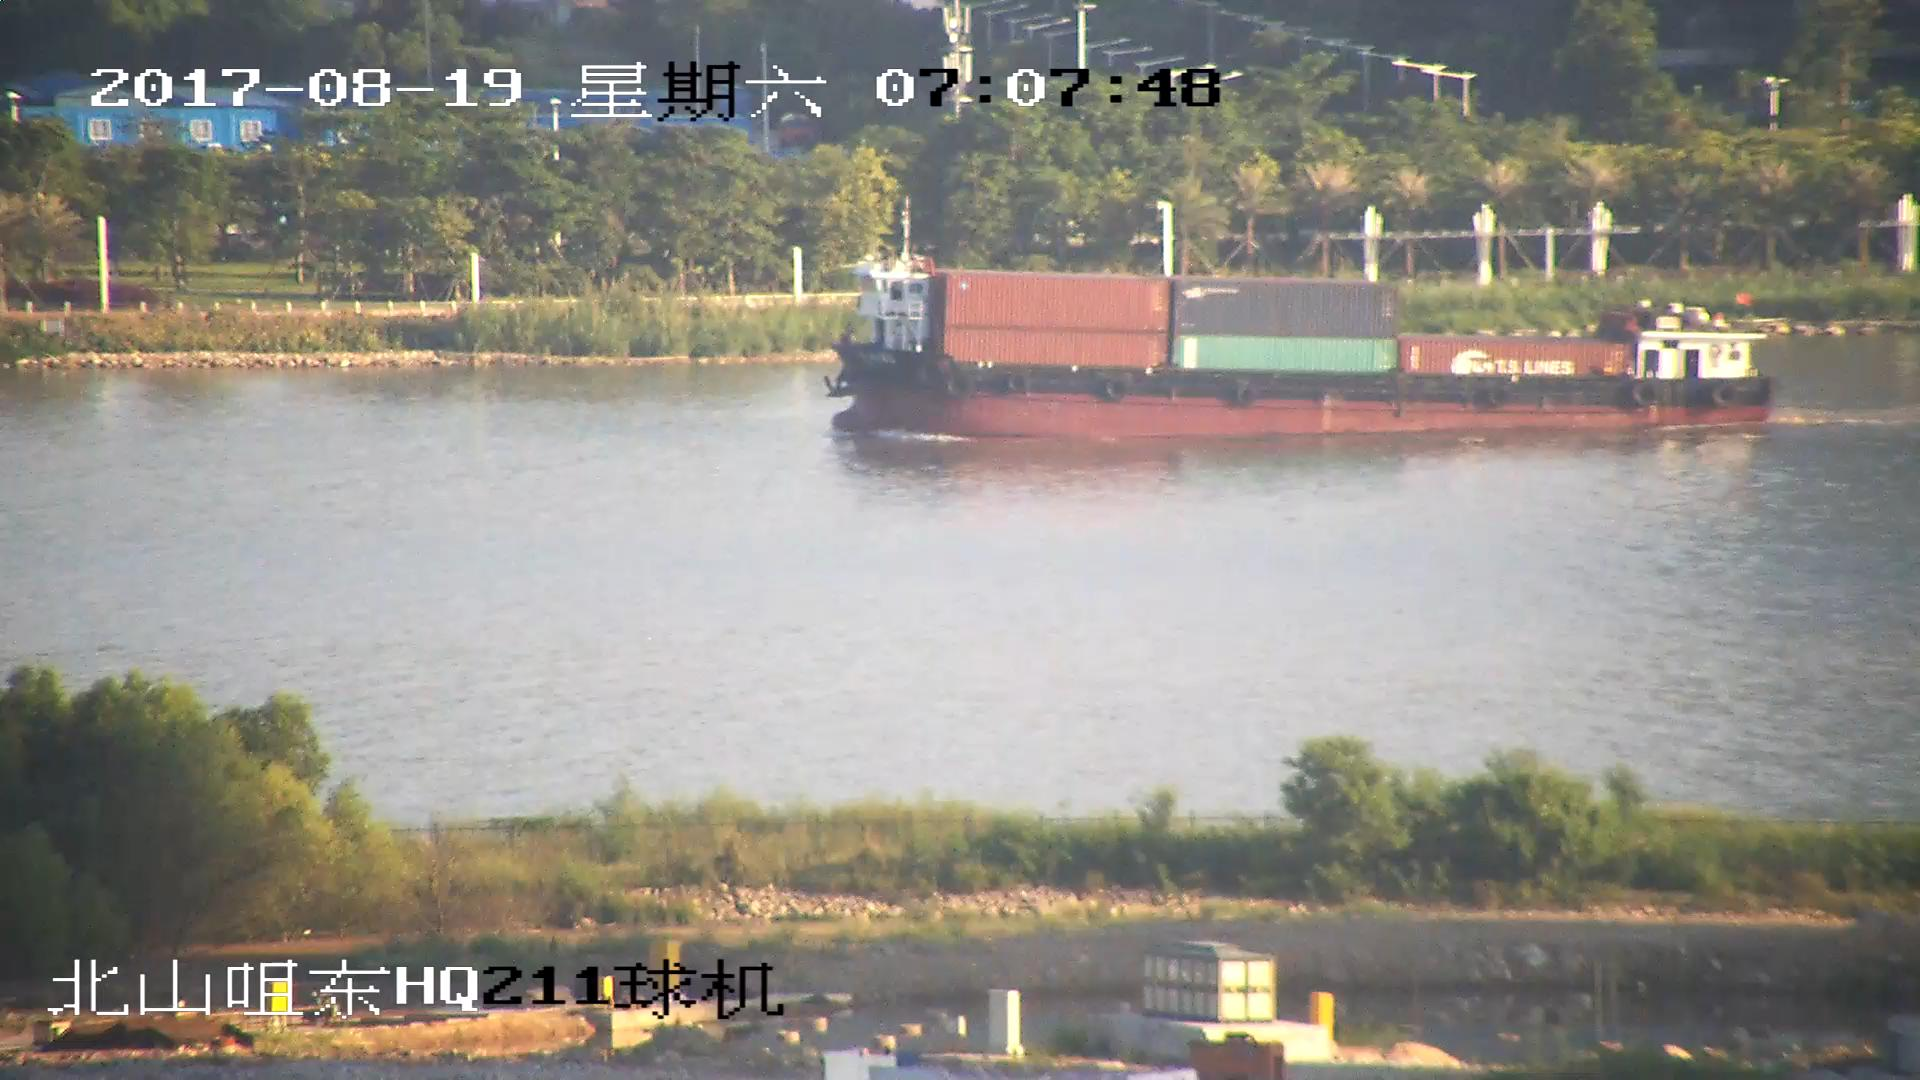container ship: (825, 245, 1784, 445)
